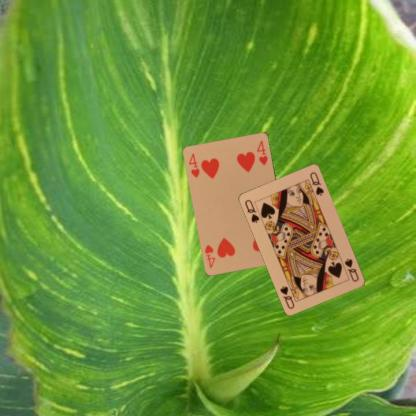4h: (187, 151, 201, 179)
Qs: (342, 256, 360, 283), (242, 197, 260, 224)
